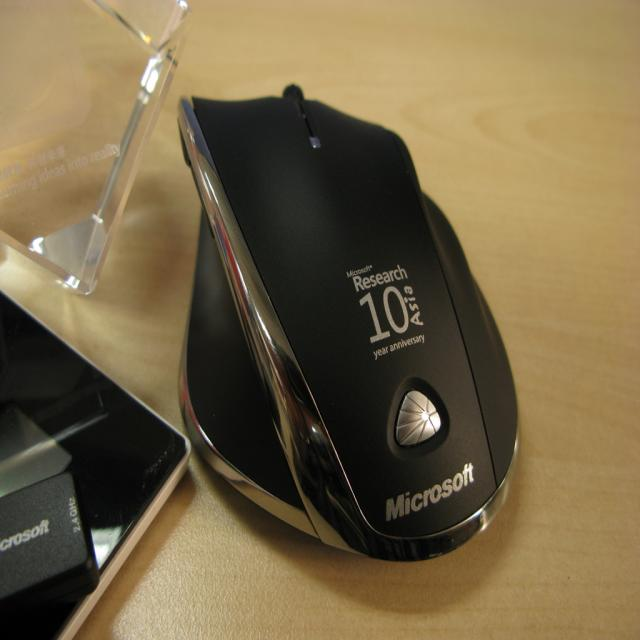Computer-mouse: (176, 81, 518, 562)
